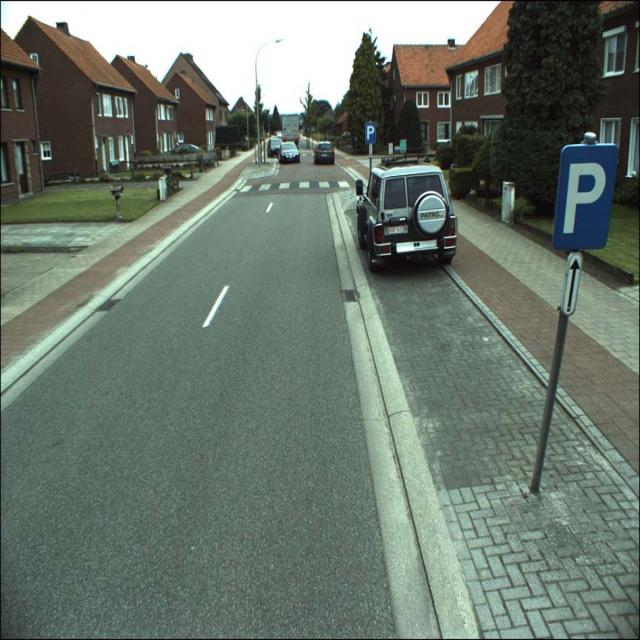park: (553, 143, 618, 249), (365, 122, 376, 144)
